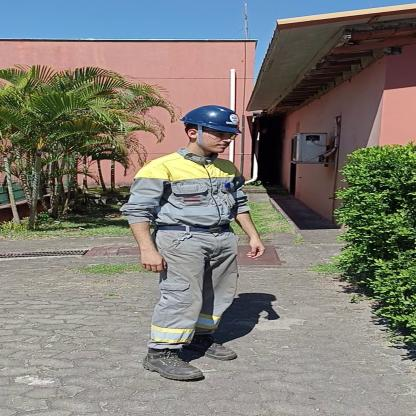Capacete: (185, 103, 244, 129)
